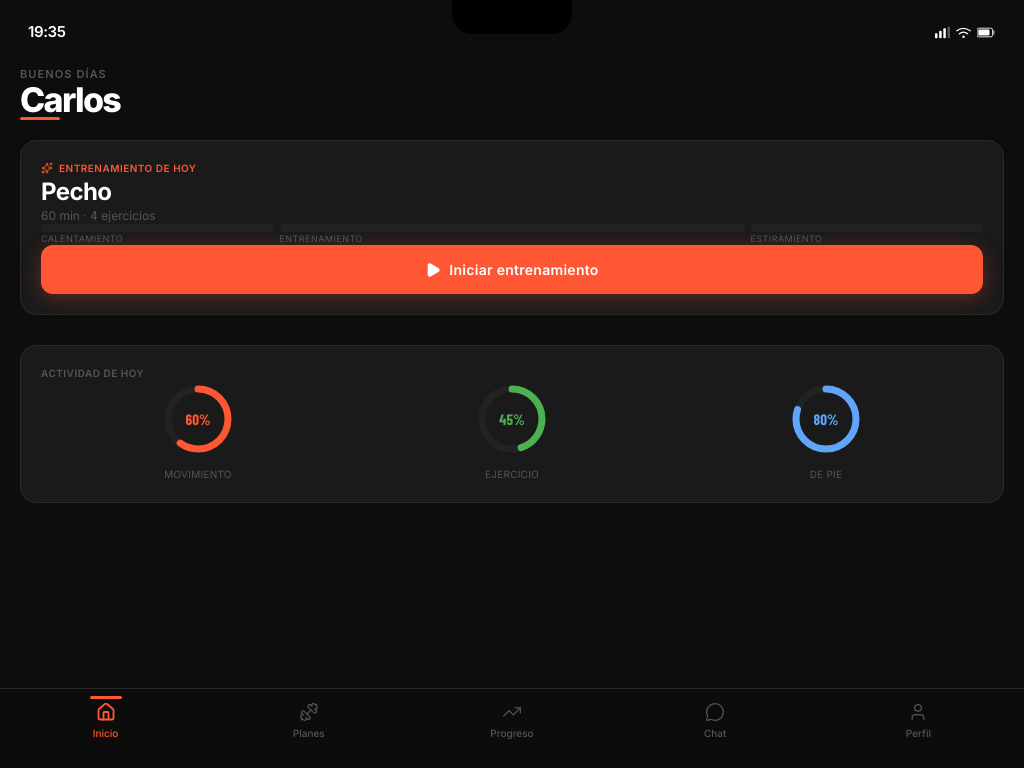
it: App — entrenamiento en curso (regresión) › cerrar el modal quita también la barra minimizada
Click the button "Iniciar entrenamiento" at (512,270), box left=41, top=245, right=983, bottom=294
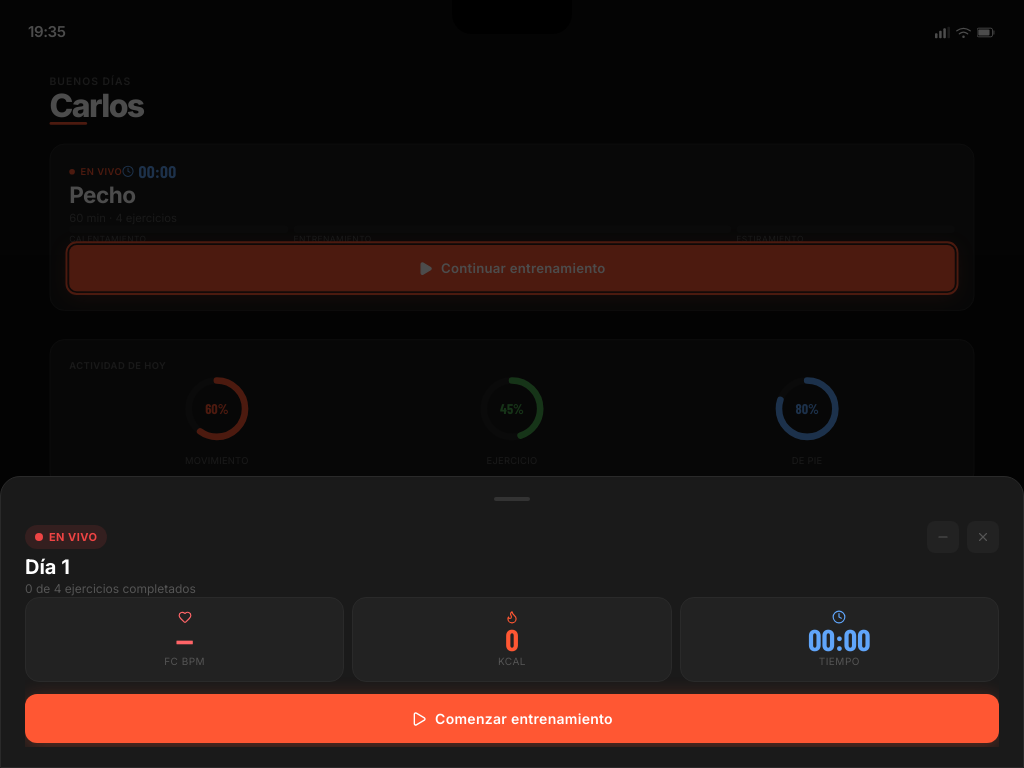
expect the dialog is shown: met, box left=0, top=476, right=1023, bottom=767
Click the button named "cerrar entrenamiento" at (983,537), box left=967, top=521, right=999, bottom=553
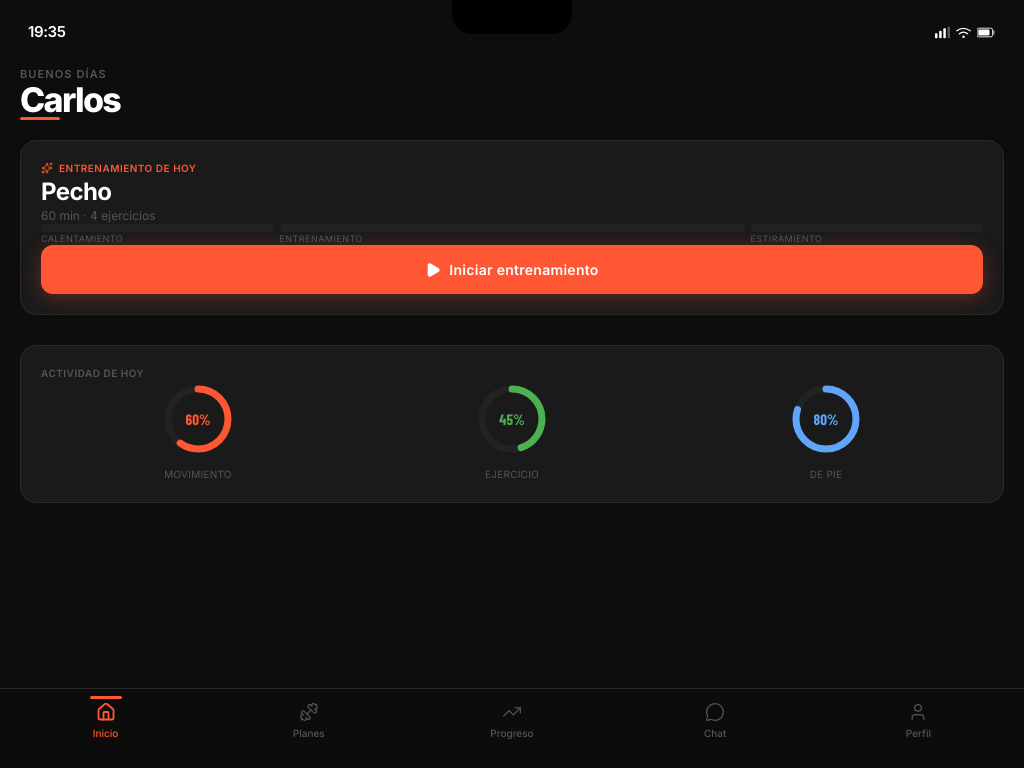
expect the dialog is gone: met
